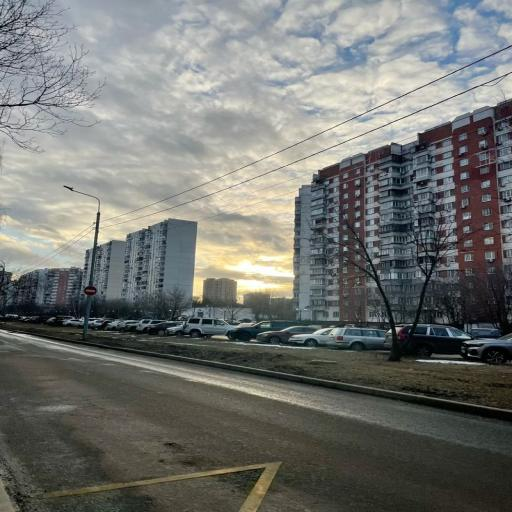bottle: (404, 325, 472, 357), (327, 328, 385, 350), (256, 326, 317, 344)
construction_fence: (3, 329, 511, 422)
ramp: (0, 332, 511, 511)
